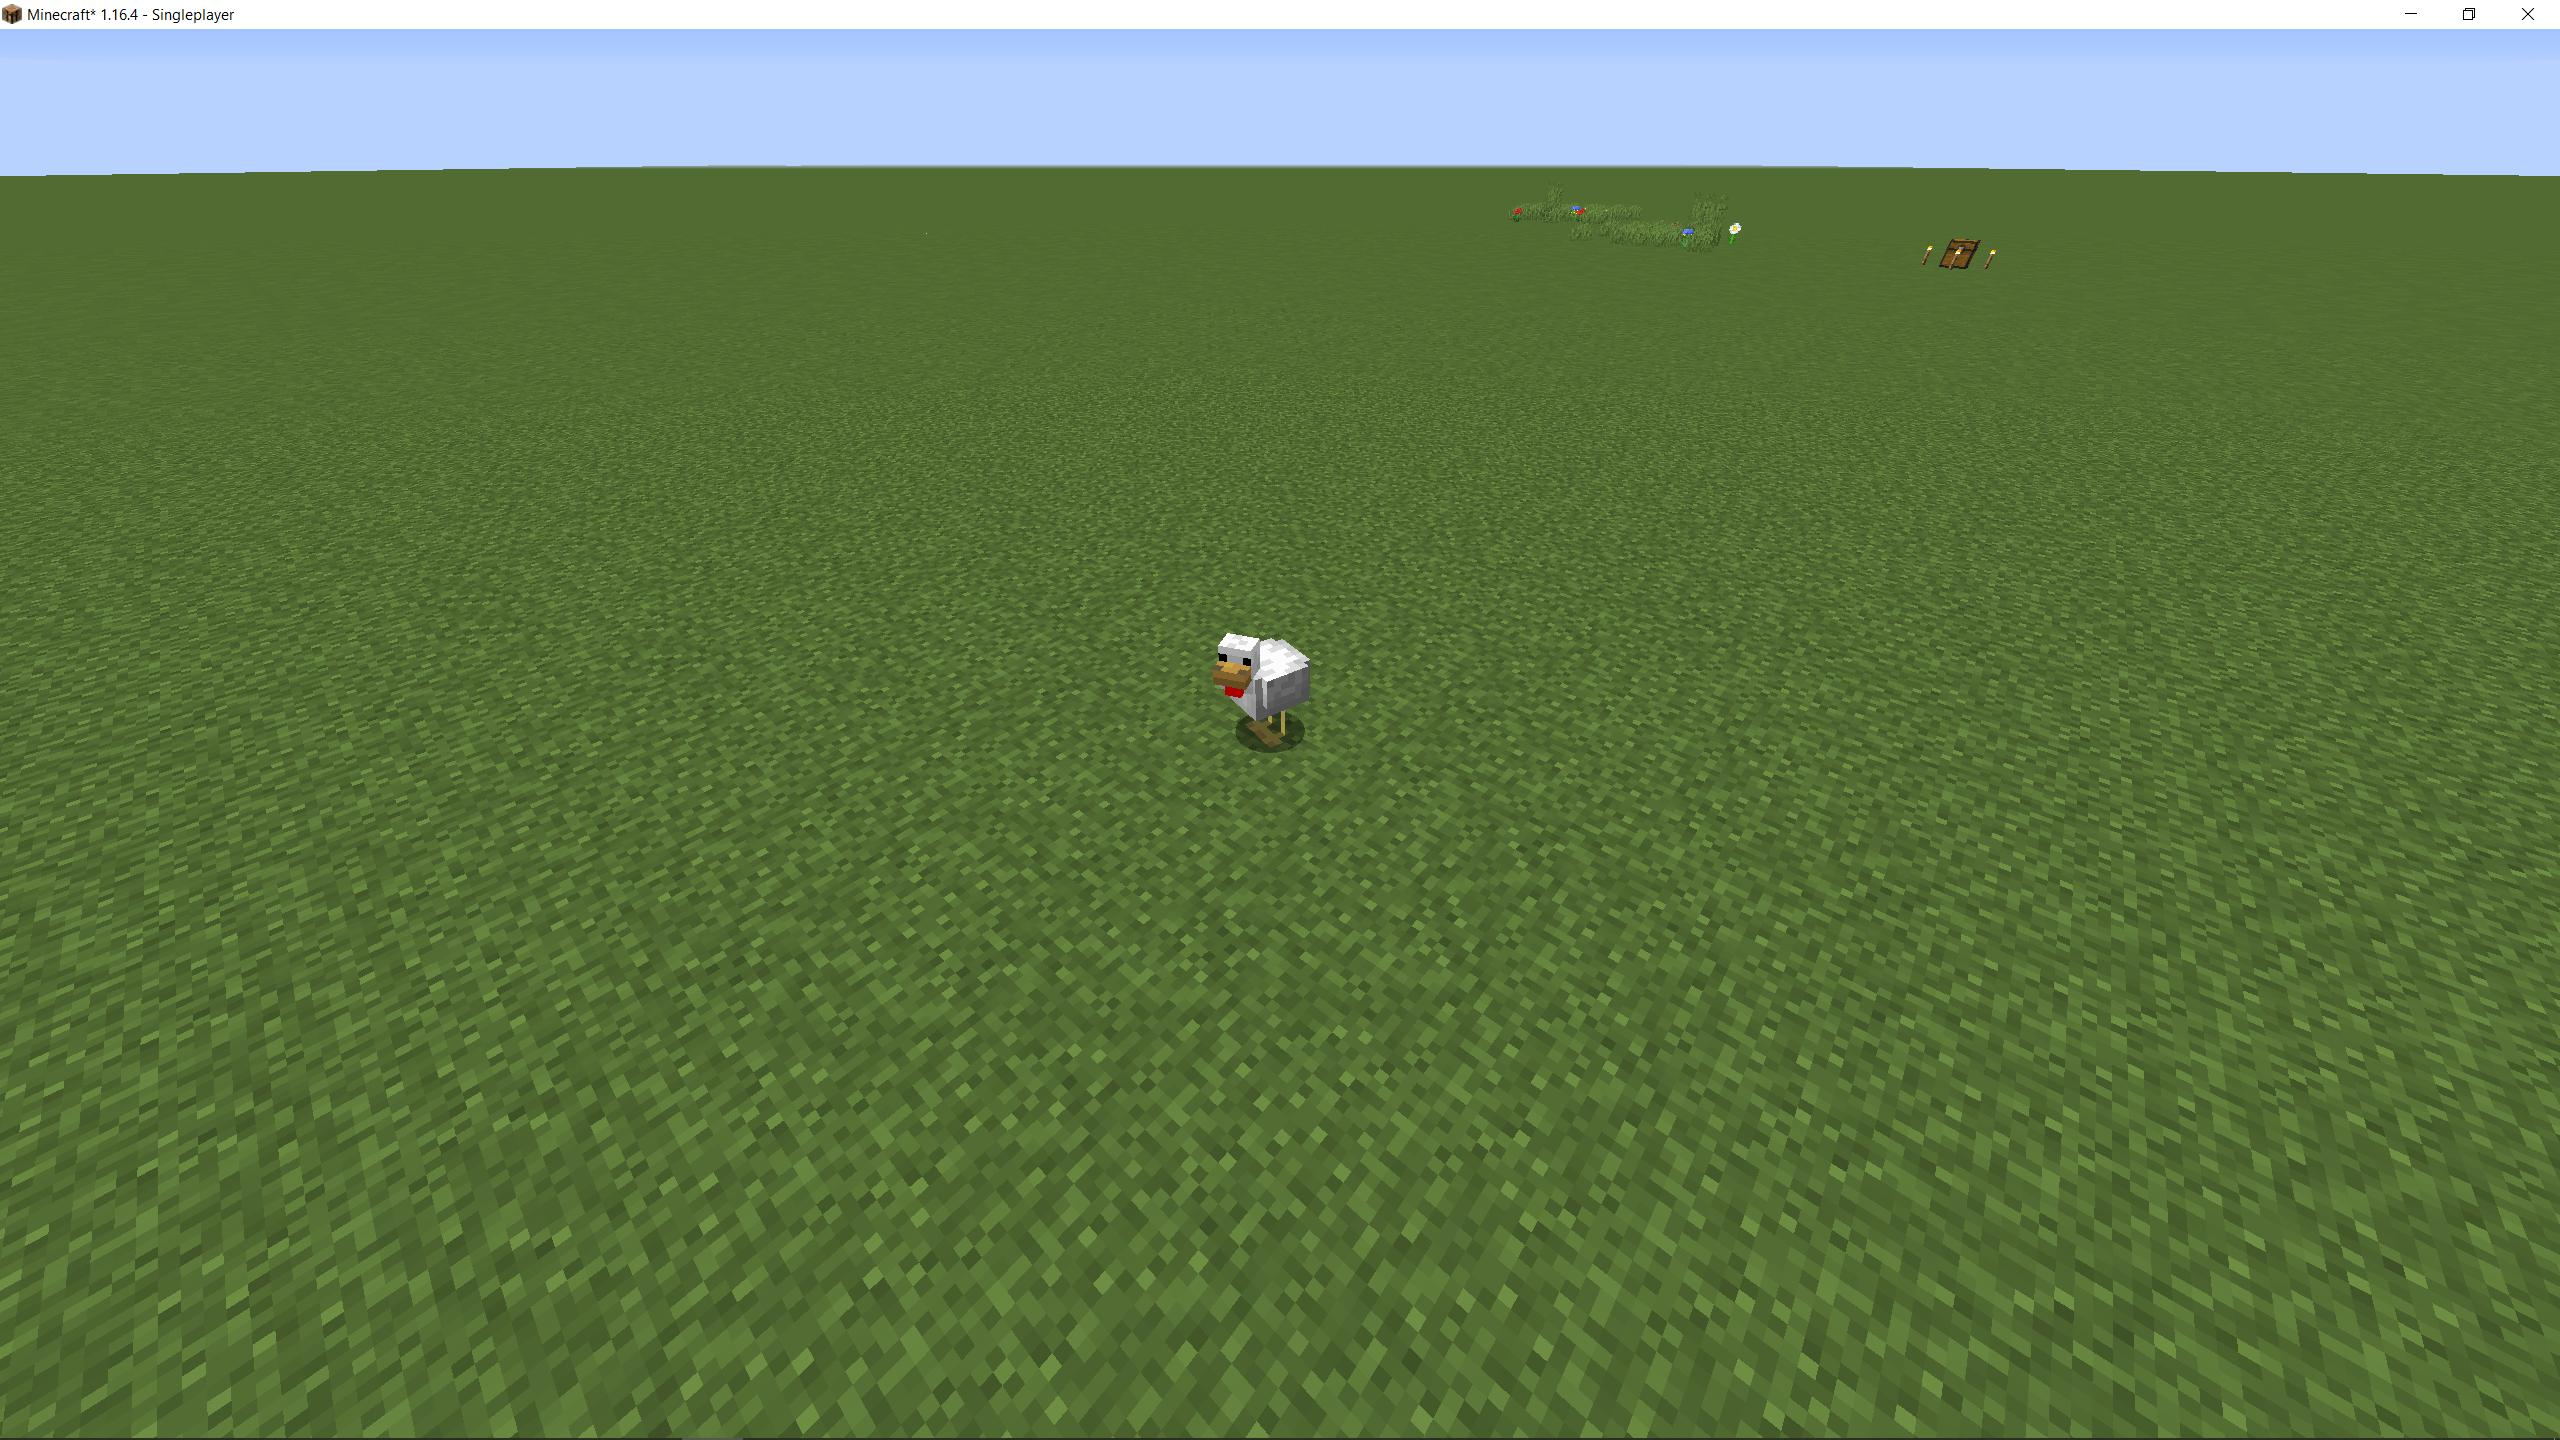chicken: (1208, 626, 1320, 753)
